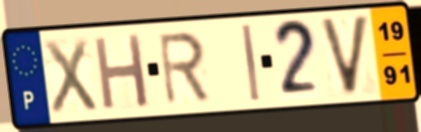2: (270, 17, 328, 103)
H: (91, 31, 152, 113)
I: (239, 22, 263, 104)
R: (155, 29, 213, 107)
V: (317, 12, 372, 99)
X: (41, 35, 100, 117)
